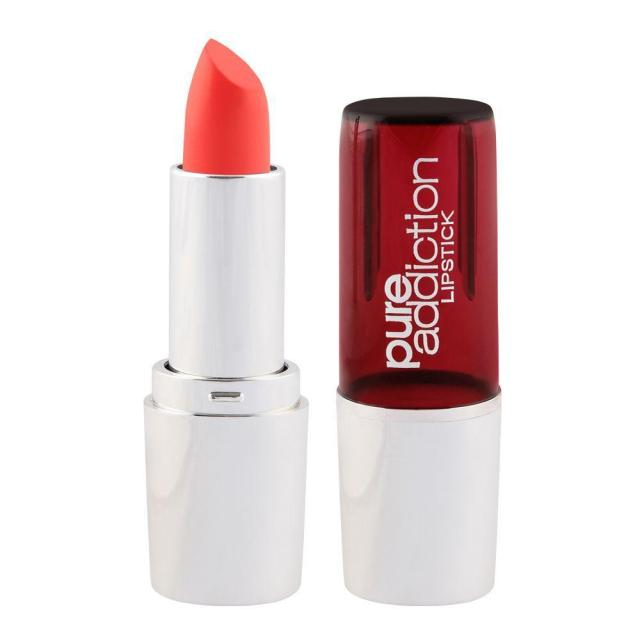lipstick: (152, 35, 312, 581)
